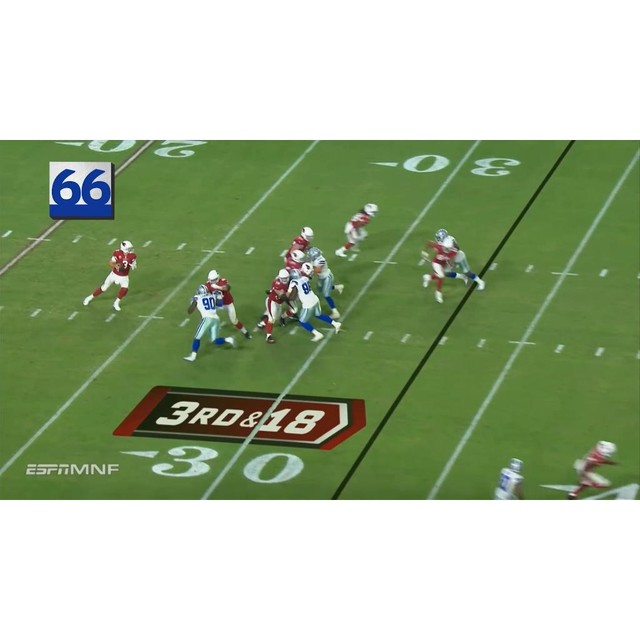american-football-player: (82, 241, 140, 316), (183, 283, 237, 363), (287, 267, 341, 342), (431, 229, 487, 291), (205, 271, 252, 341), (420, 235, 464, 304), (568, 439, 618, 498), (308, 247, 345, 318), (255, 272, 290, 344), (335, 203, 378, 257), (492, 458, 527, 500), (282, 226, 316, 268)
